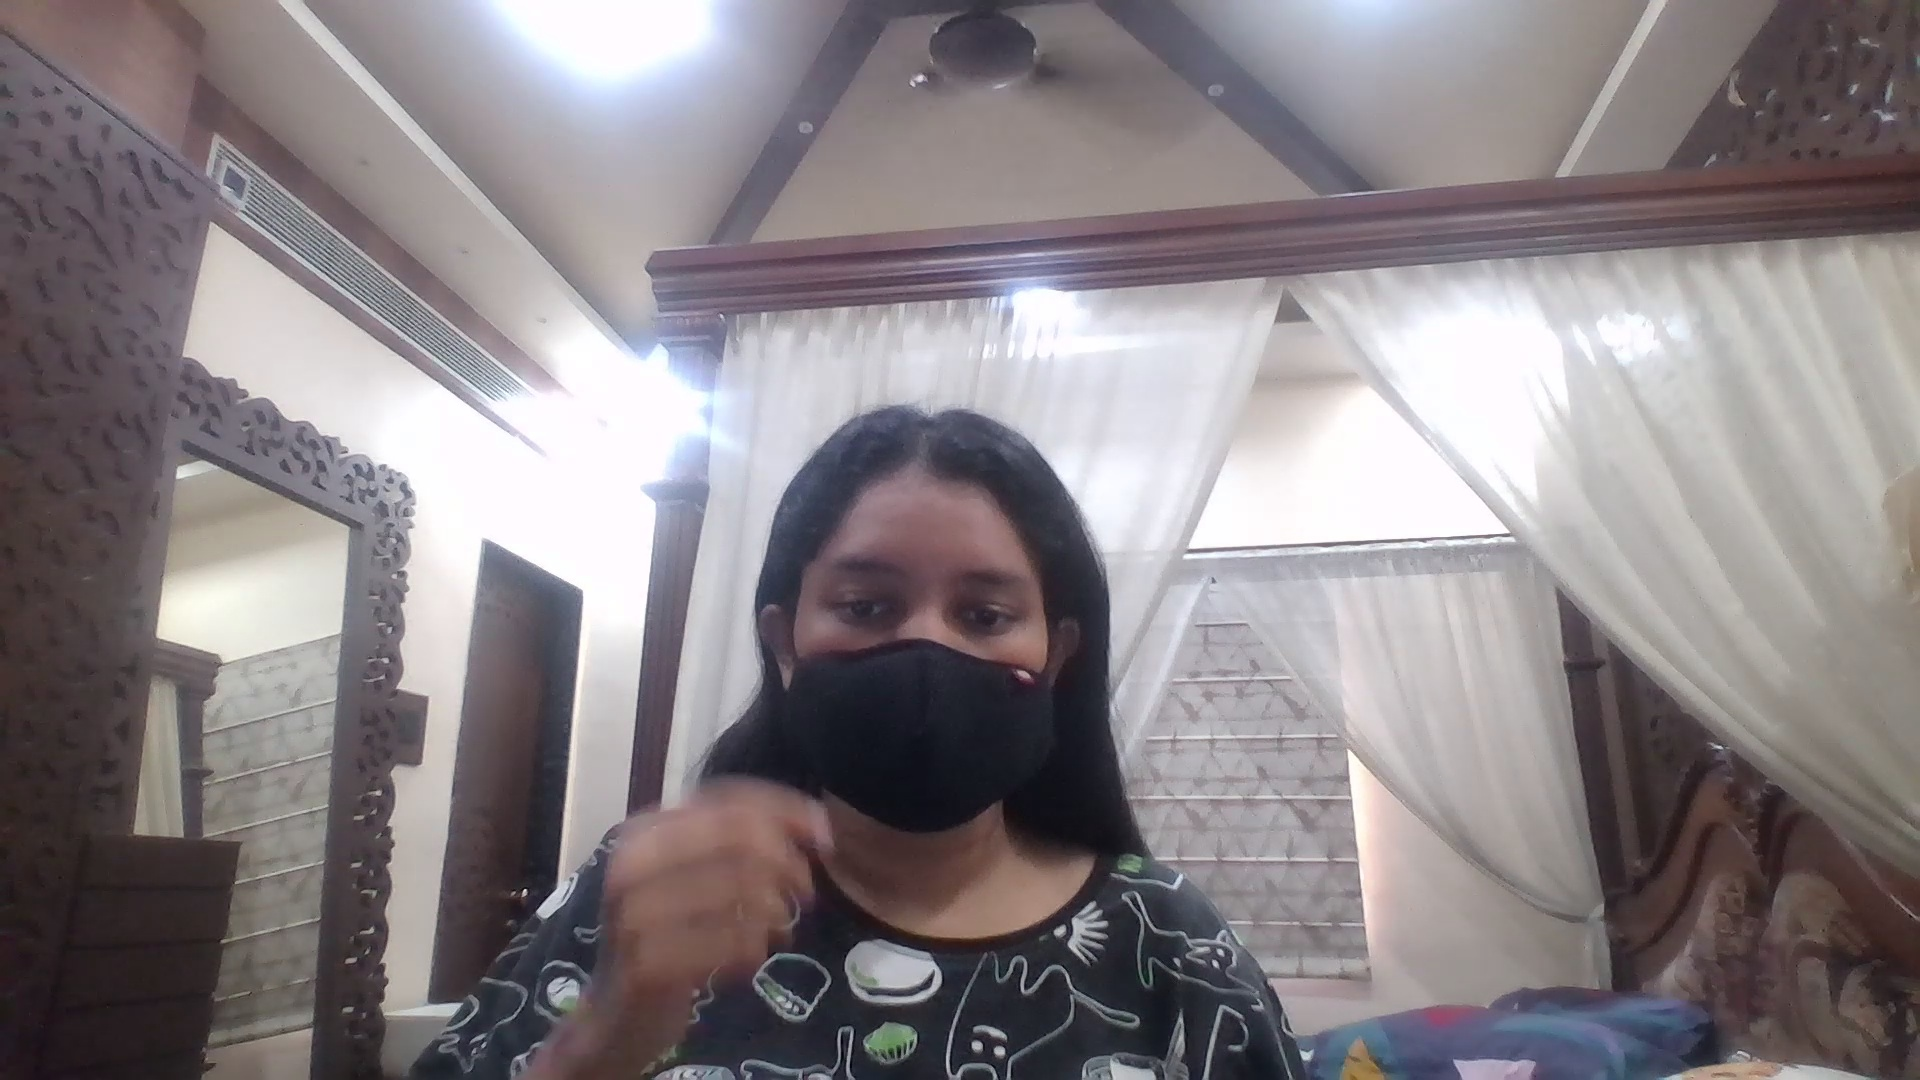Mask: (773, 639, 1056, 842)
